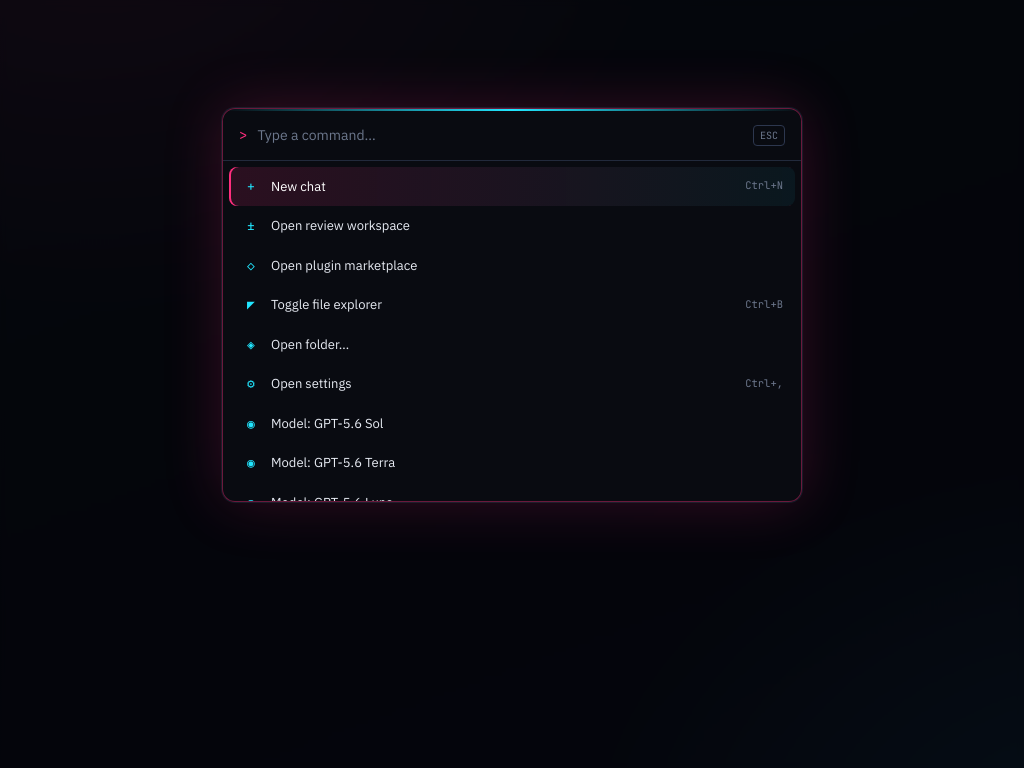
accessibility roles › clears aria-activedescendant when nothing matches
Type "zzzzz-nope" into the dropdown with placeholder "Type a command…".
click(500, 135); type("zzzzz-nope")  # box [257, 124, 743, 146]
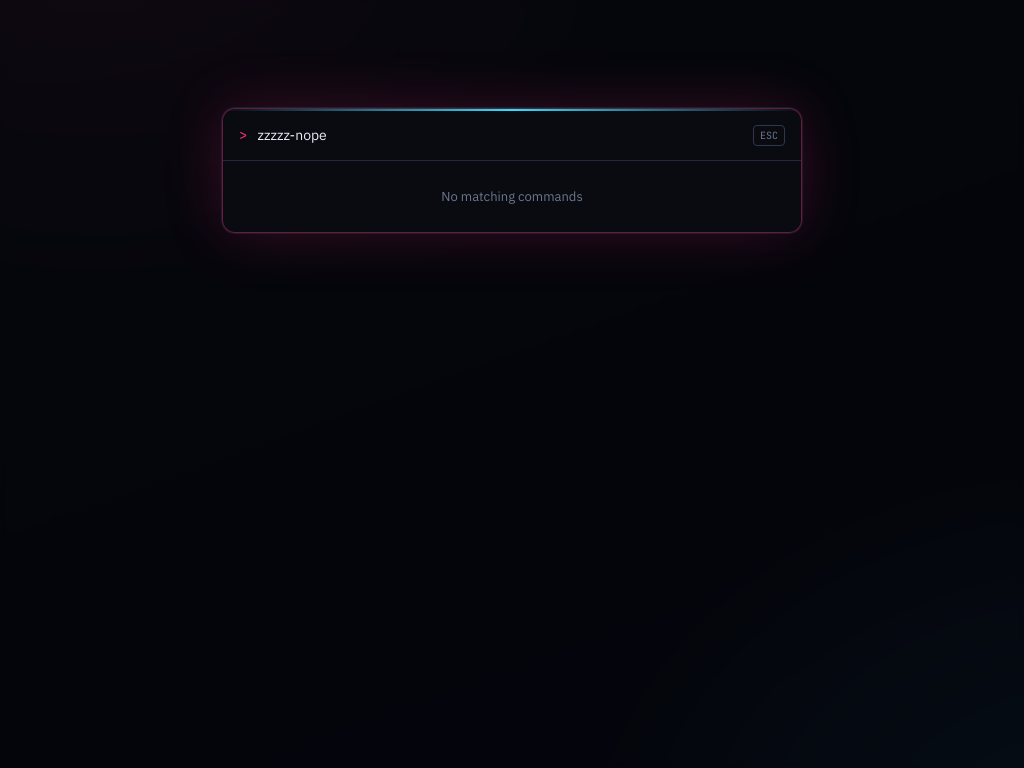
Expected: the text "No matching commands" is shown, [441, 188, 583, 204]
